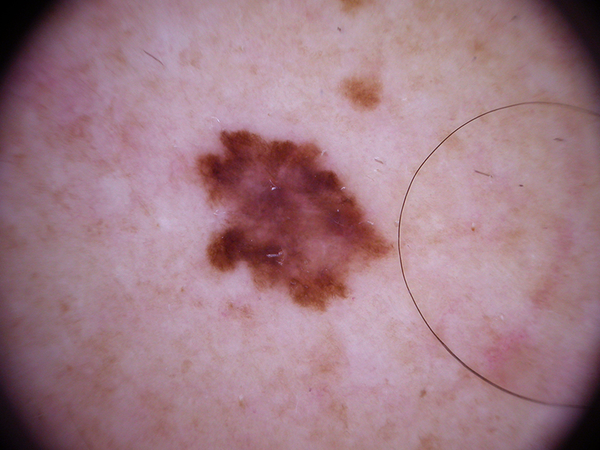Detected Lesion: (184, 115, 399, 319)
